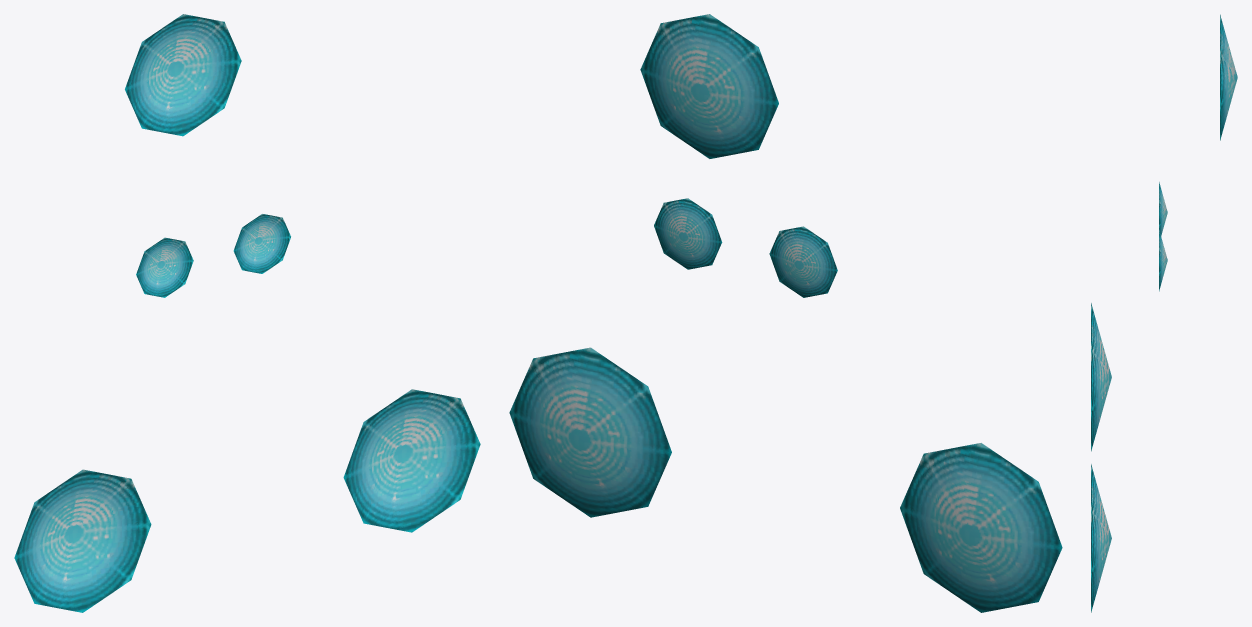
File: merchant_cruiser_medium_engine_on_l1.fbx
3 views of the same model, side by side, from view 1: azimuth 30°, elevation 25°; view 2: azimuth 150°, elevation 25°; view 3: azimuth 270°, elevation 25° (orthographic). The views are drawn at different scales.
Parts seen in each view (by area): view 1: mesh_node; view 2: mesh_node; view 3: mesh_node.
Part boxes in pixels (x1,y1,x2,y2): mesh_node: (14,14,480,612); mesh_node: (509,14,1062,612); mesh_node: (1091,14,1237,612).
Size of the model in its own units: 9.99 by 10.48 by 2.71.
